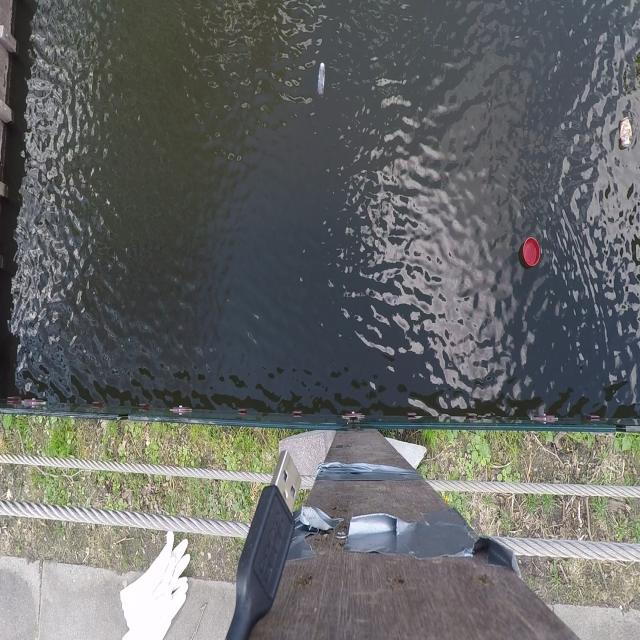Autre plastique: (519, 233, 545, 272)
Bouteille plastique: (318, 56, 329, 97)
Non plastique: (616, 113, 634, 156)
